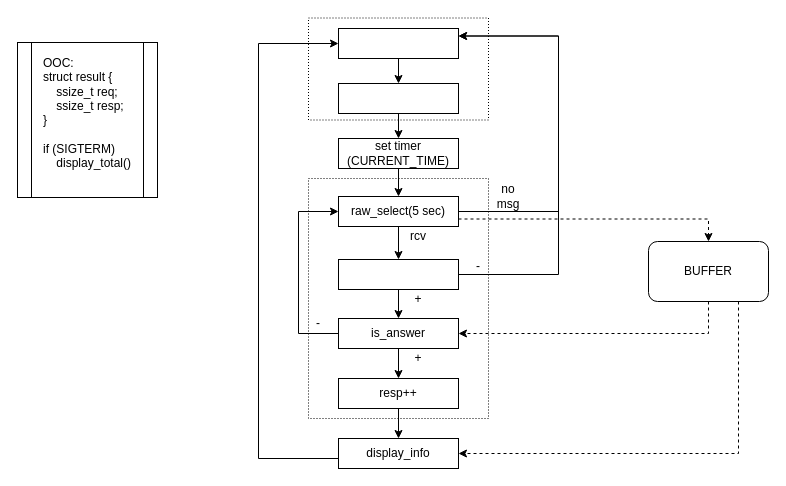
Image size: 786x486. Some labels were removed from this diagram. Each missing label, with the box of its shape:
current_time - set_time < 10: (338, 258, 458, 290)
req++: (338, 82, 458, 114)
send ping: (338, 28, 458, 58)
